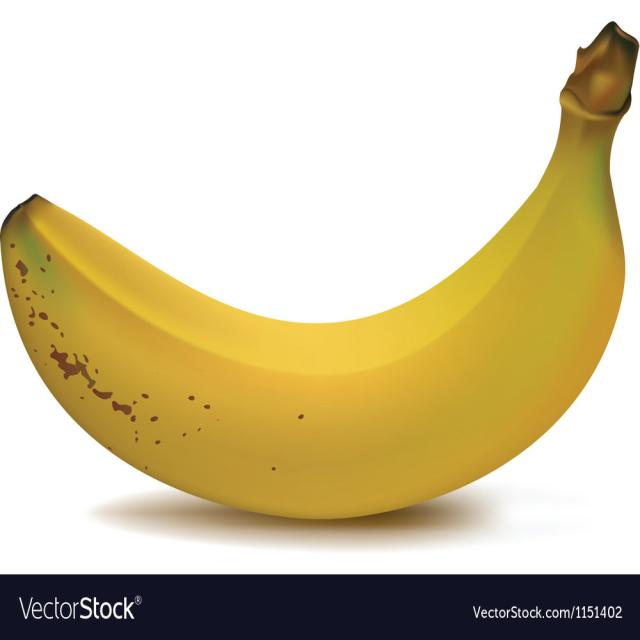non_orange: (0, 23, 639, 522)
